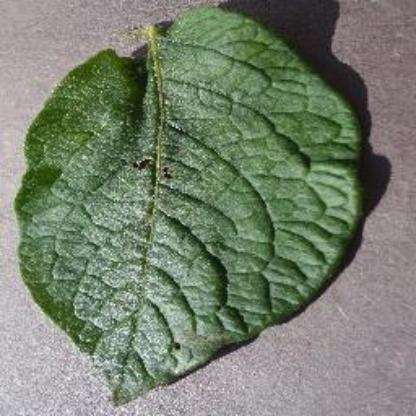Healthy-plant: (17, 8, 363, 408)
